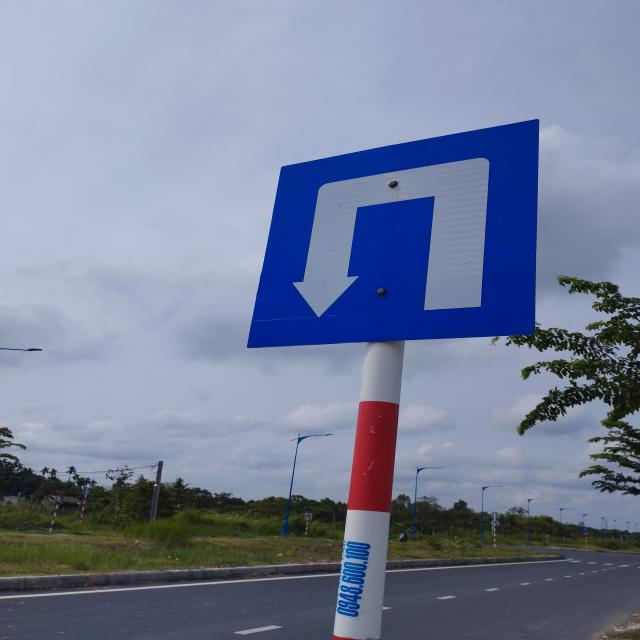Den_Giao_Thong: (247, 117, 538, 346)
